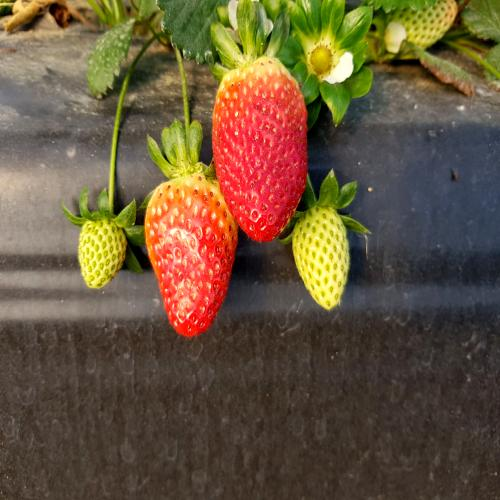ripe: (136, 150, 246, 348), (212, 42, 311, 261)
